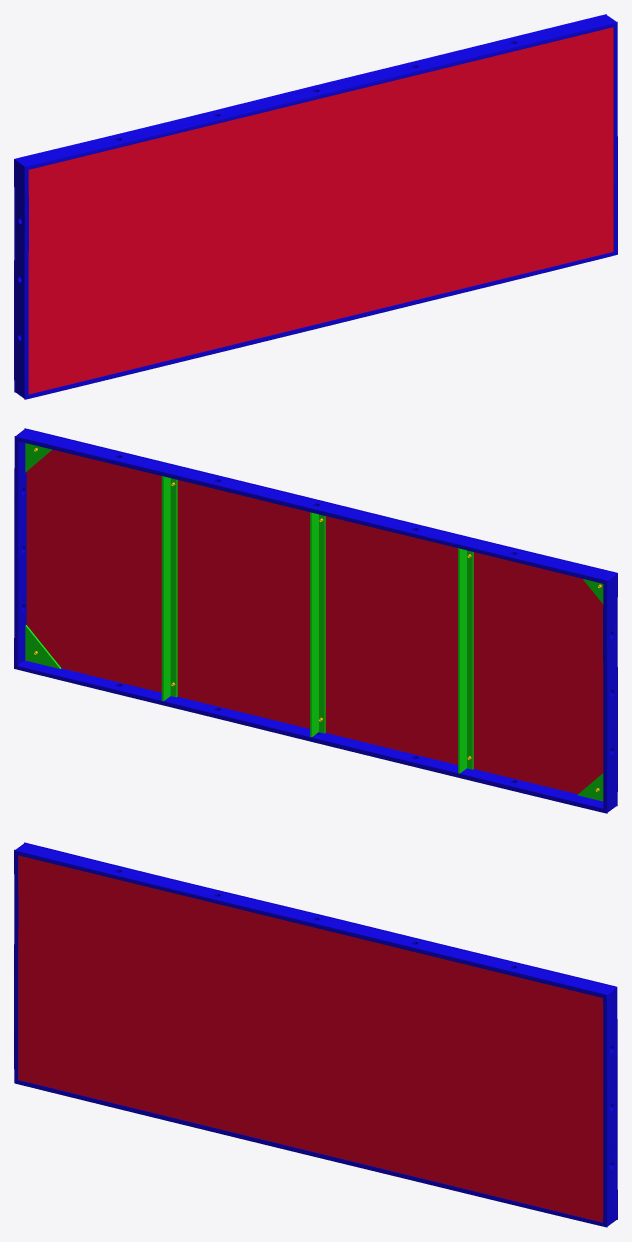
Rendered from Formwork_high.fbx.
3 views of the same model, one above another, from view 1: azimuth 30°, elevation 25°; view 2: azimuth 150°, elevation 25°; view 3: azimuth 330°, elevation 25° (orthographic).
Visible parts, largest first — view 1: Formwork_high; view 2: Formwork_high; view 3: Formwork_high.
Part boxes in pixels (x1=…): Formwork_high: x1=14, y1=14, x2=617, y2=399; Formwork_high: x1=14, y1=428, x2=617, y2=813; Formwork_high: x1=14, y1=842, x2=617, y2=1227.
Bounding box in the file's own units: 1603 × 603 × 51.22.
